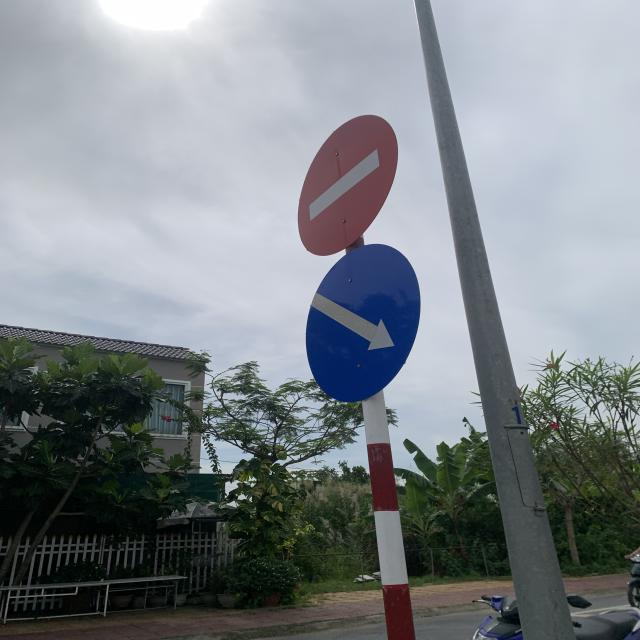Cam_Di_Nguoc_Chieu: (296, 112, 398, 256)
Chi_Huong_Di_Phai: (307, 242, 421, 403)
